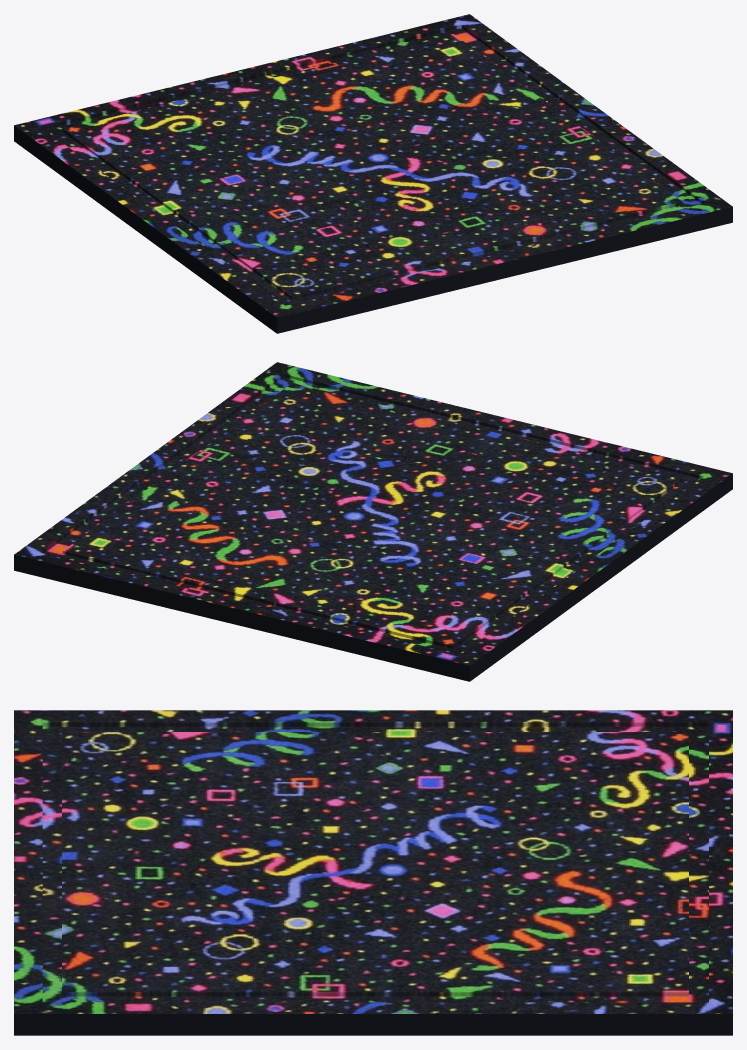
File: floorPlain.fbx
3 renders of one model, top to bottom at view 1: azimuth 30°, elevation 25°; view 2: azimuth 150°, elevation 25°; view 3: azimuth 270°, elevation 25°, orthographic. The views are drawn at different scales.
Visible parts, largest first — view 1: pCube1; view 2: pCube1; view 3: pCube1.
Part boxes in pixels (x1,y1,x2,y2): pCube1: [14, 14, 732, 333]; pCube1: [14, 362, 732, 681]; pCube1: [14, 710, 732, 1035].
Size of the model in its own units: 3 by 0.1 by 3.
1 material, 1 textured.
